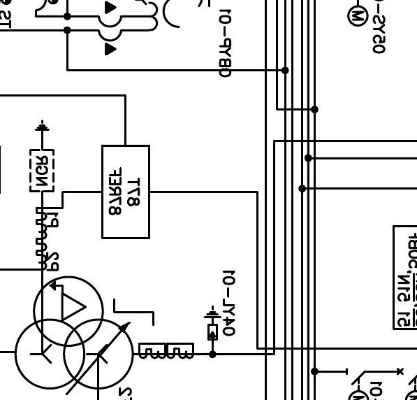11522_tx_ynyn0d1: (14, 275, 135, 390)
115_la: (203, 305, 222, 341)
NGR_future: (29, 119, 55, 193)
